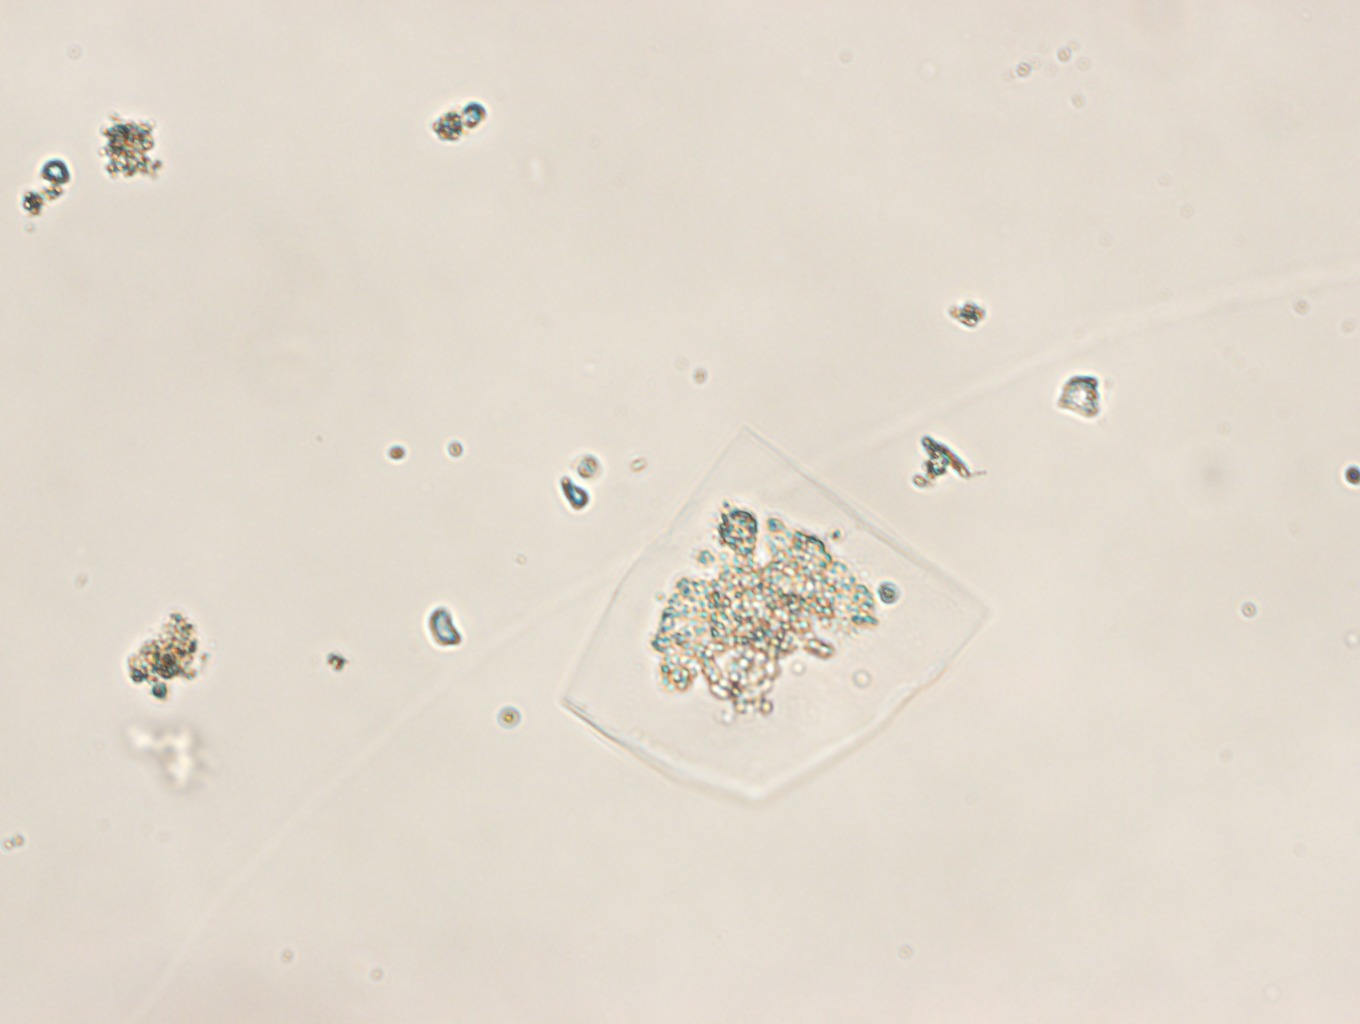helicotheca: (560, 421, 988, 795)
